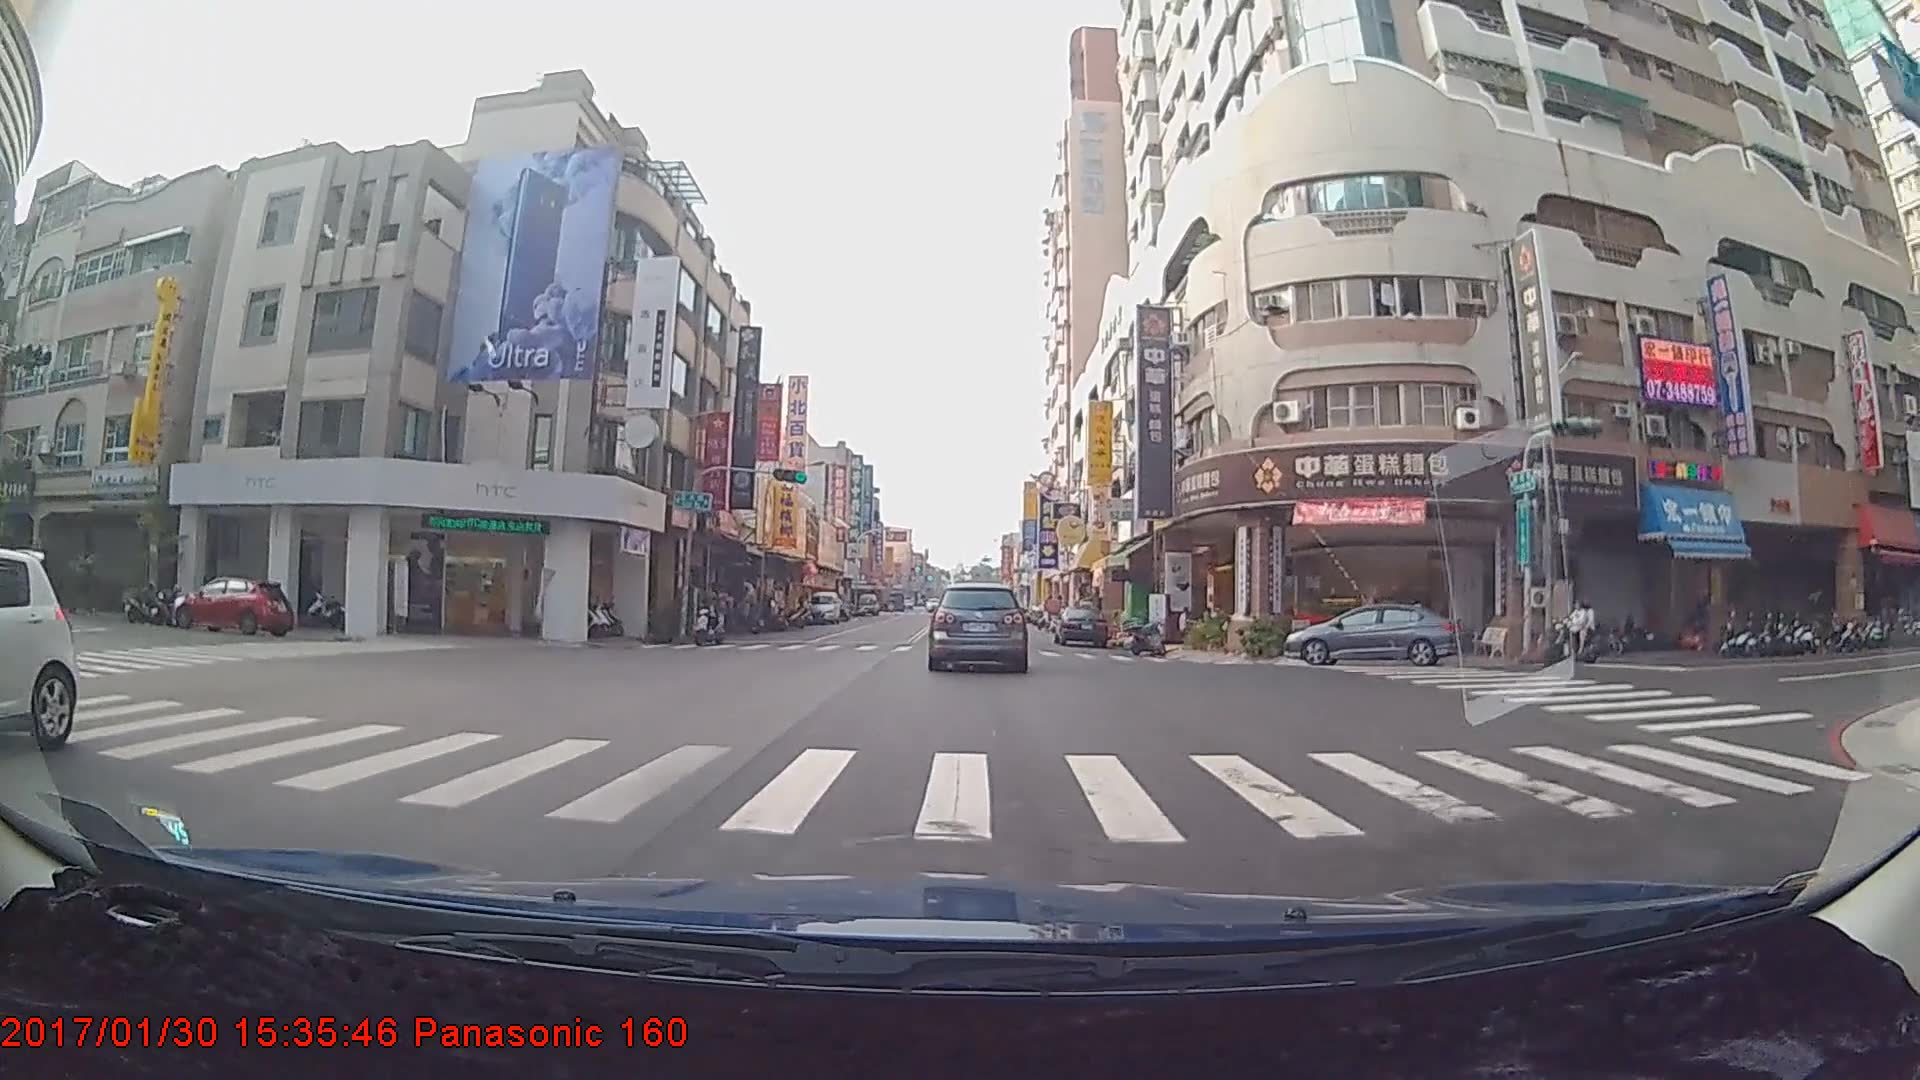rider: (1551, 592, 1611, 657), (690, 581, 729, 642)
vehicle: (0, 544, 79, 757), (1283, 598, 1456, 662), (927, 582, 1027, 671), (175, 574, 296, 637), (1051, 600, 1107, 645), (804, 587, 841, 621)
